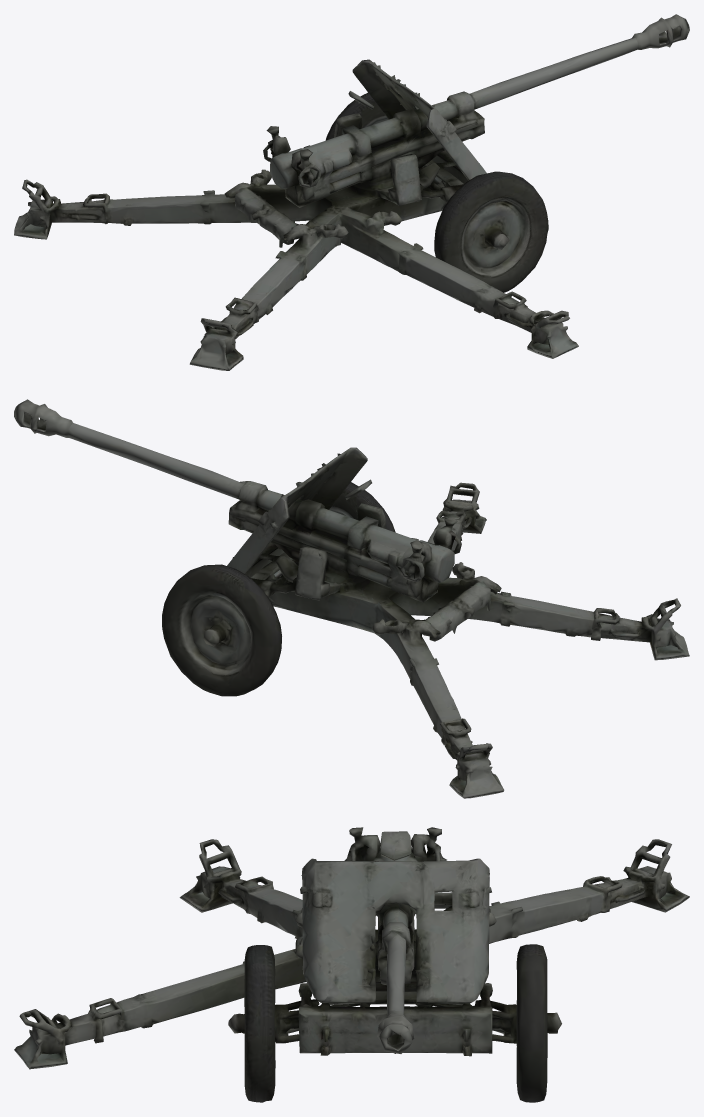
File: prop_pak40.glb
3 renders of one model, top to bottom at view 1: azimuth 30°, elevation 25°; view 2: azimuth 150°, elevation 25°; view 3: azimuth 270°, elevation 25°, orthographic. The views are drawn at different scales.
Parts seen in each view (by area): view 1: tripo_node_42aebdde-ecc9-4bd0-bdb4-97162d4ceea3; view 2: tripo_node_42aebdde-ecc9-4bd0-bdb4-97162d4ceea3; view 3: tripo_node_42aebdde-ecc9-4bd0-bdb4-97162d4ceea3.
Part boxes in pixels (left/top/right/bottom): tripo_node_42aebdde-ecc9-4bd0-bdb4-97162d4ceea3: left=14, top=14, right=689, bottom=370; tripo_node_42aebdde-ecc9-4bd0-bdb4-97162d4ceea3: left=14, top=399, right=689, bottom=798; tripo_node_42aebdde-ecc9-4bd0-bdb4-97162d4ceea3: left=14, top=827, right=689, bottom=1102.
Bounding box in the file's own units: 1 × 0.2997 × 0.8462.
1 material, 1 textured.
